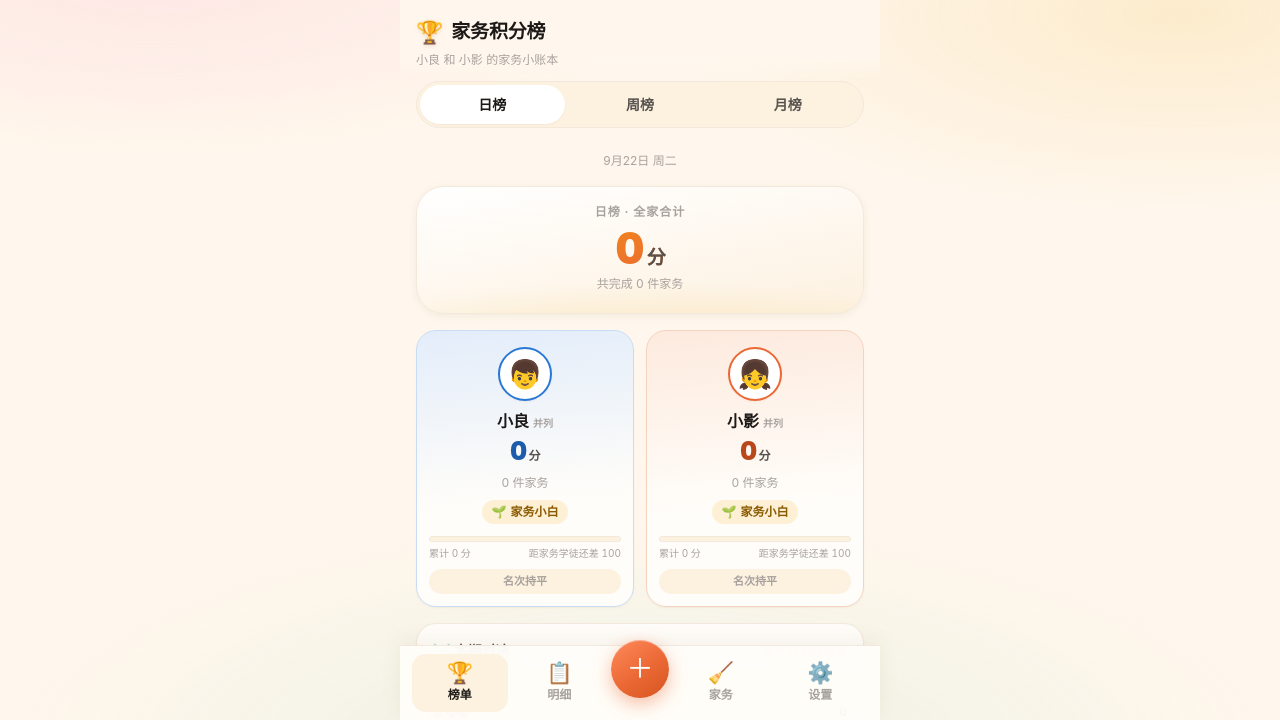
Scenario: 记一笔 › 未选成员时提交按钮不可用（防止记错账）
This screenshot has width=1280, height=720.
Click the button named "记一笔家务": [640, 669] box [611, 640, 669, 698]
(page scrolled)
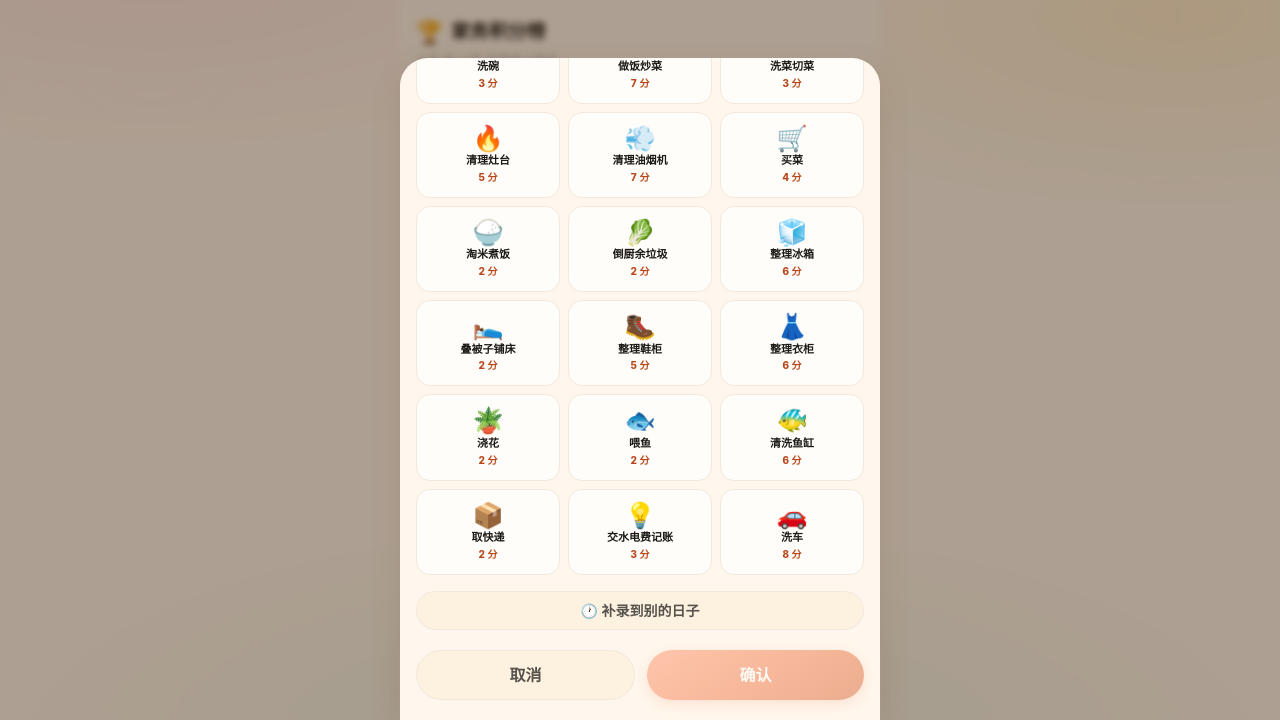
Now the button "确认" is disabled, box [647, 650, 864, 700]
